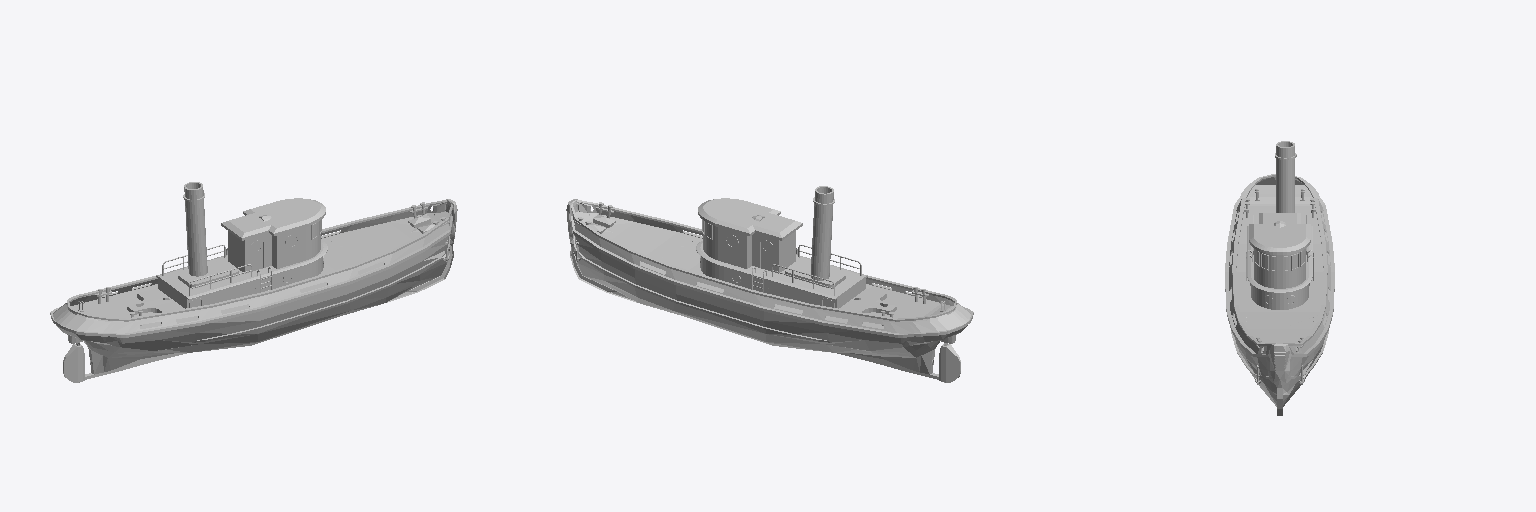
Rendered from boat_high.obj.
3 renders of one model, left to right at view 1: azimuth 30°, elevation 25°; view 2: azimuth 150°, elevation 25°; view 3: azimuth 270°, elevation 25°, orthographic.
Visible parts, largest first — view 1: Mesh32 Componente_2_1 Agrupar_26_1 Model, Mesh25 Componente_4_1 Componente_2_1 Agrupar_26_1 Model, Mesh59 Componente_2_2 Agrupar_26_1 Model, Mesh52 Componente_4_2 Componente_2_2 Agrupar_26_1 Model, Mesh3 Group3 Agrupar_26_1 Model, Mesh60 Agrupar_26_1 Model, Mesh1 Group1 Agrupar_26_1 Model; view 2: Mesh59 Componente_2_2 Agrupar_26_1 Model, Mesh52 Componente_4_2 Componente_2_2 Agrupar_26_1 Model, Mesh32 Componente_2_1 Agrupar_26_1 Model, Mesh25 Componente_4_1 Componente_2_1 Agrupar_26_1 Model, Mesh3 Group3 Agrupar_26_1 Model, Mesh60 Agrupar_26_1 Model, Mesh1 Group1 Agrupar_26_1 Model; view 3: Mesh32 Componente_2_1 Agrupar_26_1 Model, Mesh59 Componente_2_2 Agrupar_26_1 Model, Mesh25 Componente_4_1 Componente_2_1 Agrupar_26_1 Model, Mesh52 Componente_4_2 Componente_2_2 Agrupar_26_1 Model, Mesh3 Group3 Agrupar_26_1 Model.
Boxes of the visible parts, x1=… form: Mesh32 Componente_2_1 Agrupar_26_1 Model: x1=57, y1=204, x2=452, y2=379; Mesh25 Componente_4_1 Componente_2_1 Agrupar_26_1 Model: x1=131, y1=203, x2=327, y2=314; Mesh59 Componente_2_2 Agrupar_26_1 Model: x1=50, y1=200, x2=453, y2=375; Mesh52 Componente_4_2 Componente_2_2 Agrupar_26_1 Model: x1=127, y1=198, x2=322, y2=311; Mesh3 Group3 Agrupar_26_1 Model: x1=183, y1=182, x2=207, y2=276; Mesh60 Agrupar_26_1 Model: x1=53, y1=303, x2=141, y2=333; Mesh1 Group1 Agrupar_26_1 Model: x1=63, y1=343, x2=84, y2=382; Mesh59 Componente_2_2 Agrupar_26_1 Model: x1=571, y1=204, x2=966, y2=379; Mesh52 Componente_4_2 Componente_2_2 Agrupar_26_1 Model: x1=696, y1=203, x2=892, y2=314; Mesh32 Componente_2_1 Agrupar_26_1 Model: x1=570, y1=200, x2=973, y2=375; Mesh25 Componente_4_1 Componente_2_1 Agrupar_26_1 Model: x1=701, y1=198, x2=896, y2=311; Mesh3 Group3 Agrupar_26_1 Model: x1=811, y1=186, x2=834, y2=280; Mesh60 Agrupar_26_1 Model: x1=882, y1=303, x2=970, y2=333; Mesh1 Group1 Agrupar_26_1 Model: x1=939, y1=343, x2=960, y2=382; Mesh32 Componente_2_1 Agrupar_26_1 Model: x1=1225, y1=174, x2=1282, y2=415; Mesh59 Componente_2_2 Agrupar_26_1 Model: x1=1277, y1=176, x2=1334, y2=415; Mesh25 Componente_4_1 Componente_2_1 Agrupar_26_1 Model: x1=1246, y1=213, x2=1279, y2=309; Mesh52 Componente_4_2 Componente_2_2 Agrupar_26_1 Model: x1=1280, y1=213, x2=1313, y2=309; Mesh3 Group3 Agrupar_26_1 Model: x1=1275, y1=141, x2=1296, y2=212.
Size of the model in its own units: 2770 by 1102 by 668.